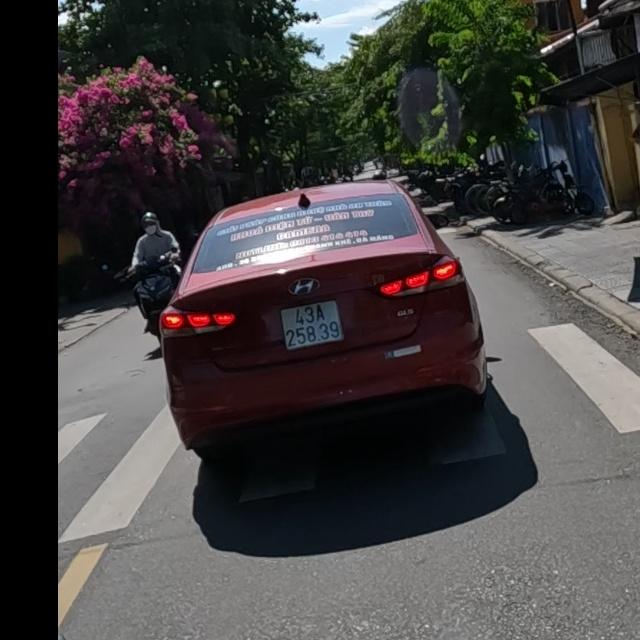license-plate: (279, 298, 346, 352)
